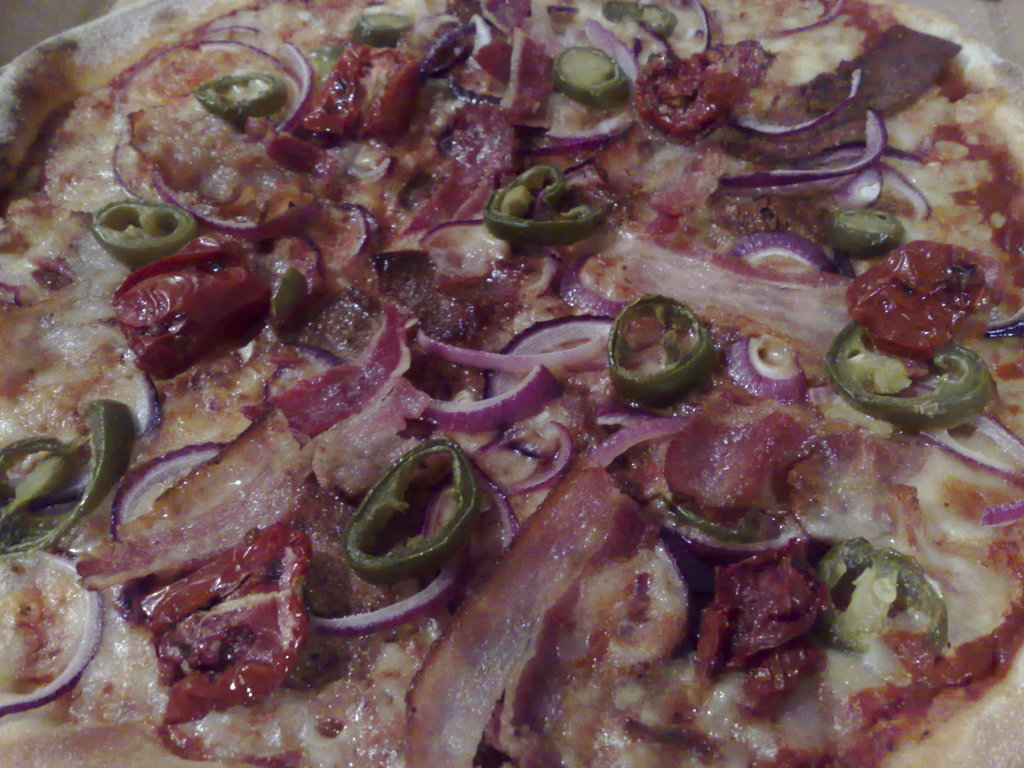Pizza: (1, 0, 1023, 759)
